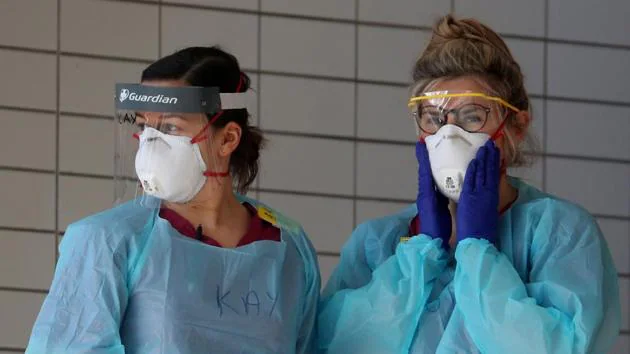Gloves: (453, 142, 515, 243), (405, 143, 455, 241)
with_mask: (133, 111, 216, 208), (417, 103, 498, 199)
